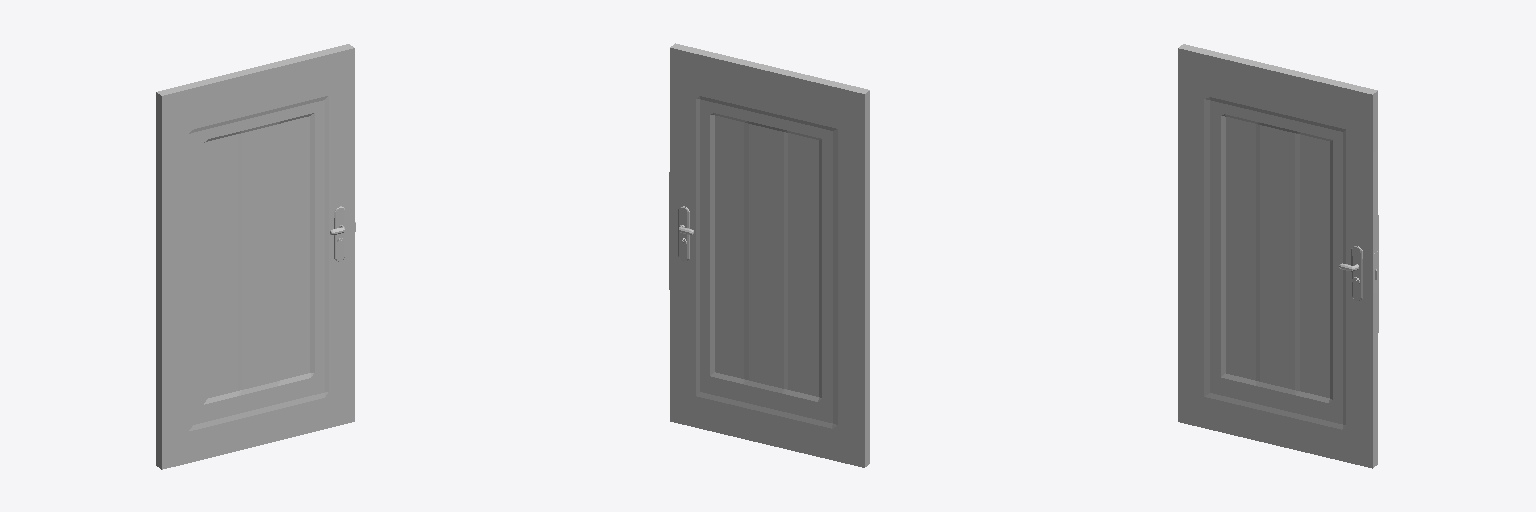
File: porta.obj
3 views of the same model, side by side, from view 1: azimuth 30°, elevation 25°; view 2: azimuth 150°, elevation 25°; view 3: azimuth 330°, elevation 25° (orthographic).
Parts seen in each view (by area): view 1: DoorBoddy_Cube.001, Locker.001_Cube.004; view 2: DoorBoddy_Cube.001, Locker_Cube.003; view 3: DoorBoddy_Cube.001, Locker.001_Cube.004.
Boxes of the visible parts, box(x1,y1,x2,y2) form: DoorBoddy_Cube.001: box(156, 44, 355, 469); Locker.001_Cube.004: box(334, 206, 345, 261); DoorBoddy_Cube.001: box(669, 43, 869, 467); Locker_Cube.003: box(678, 206, 689, 261); DoorBoddy_Cube.001: box(1178, 44, 1378, 468); Locker.001_Cube.004: box(1351, 246, 1362, 300).
Size of the model in its own units: 6.65 by 12.08 by 1.02.